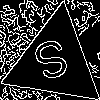S: (30, 36, 76, 92)
